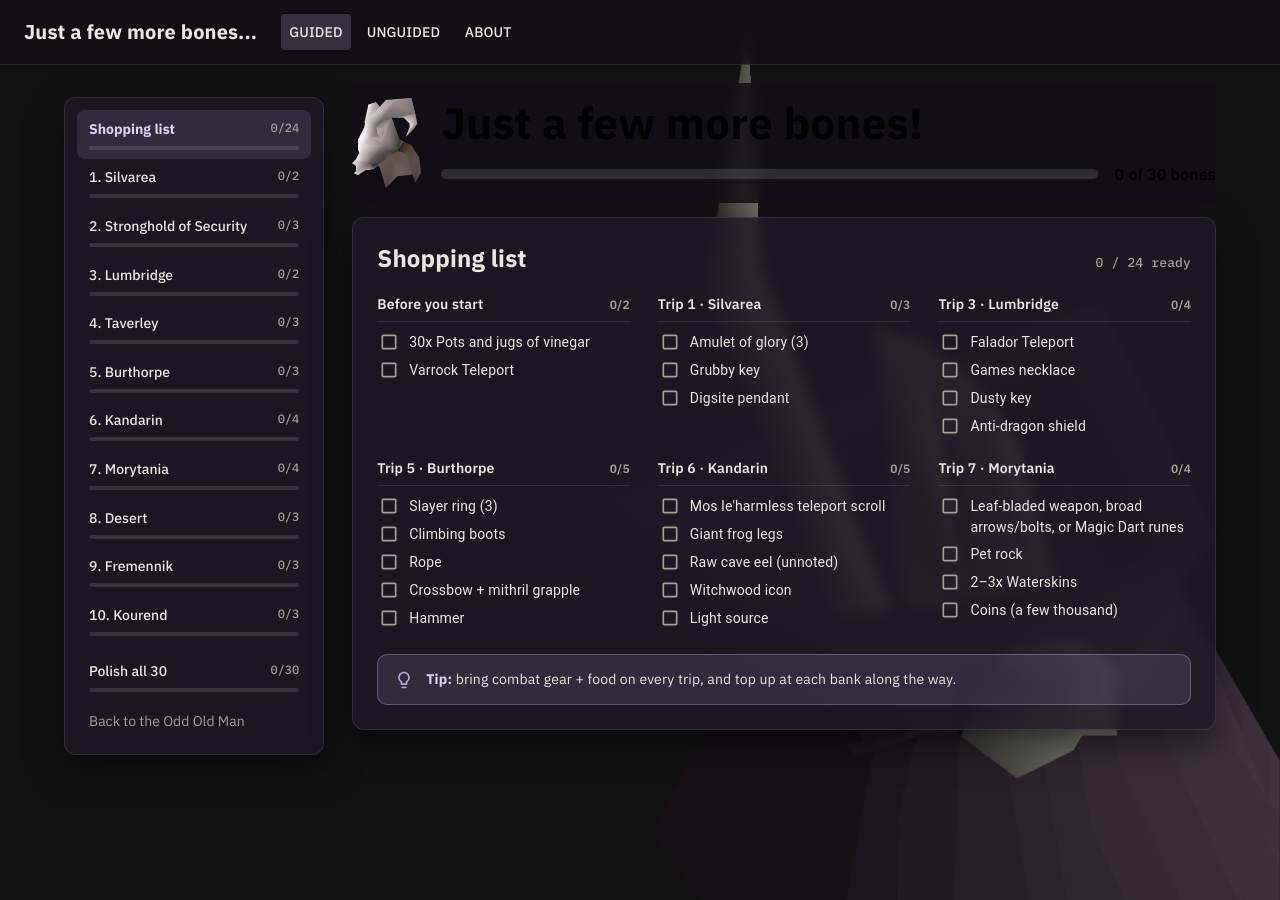
it: RoutePage › opens the shopping list as its own view, sharing ticks with the bank stops
Expected: the heading "Shopping list" is shown, left=377, top=242, right=527, bottom=274
Click the checkbox labelled "Grubby key". click: point(710, 370)
box: left=660, top=360, right=760, bottom=380
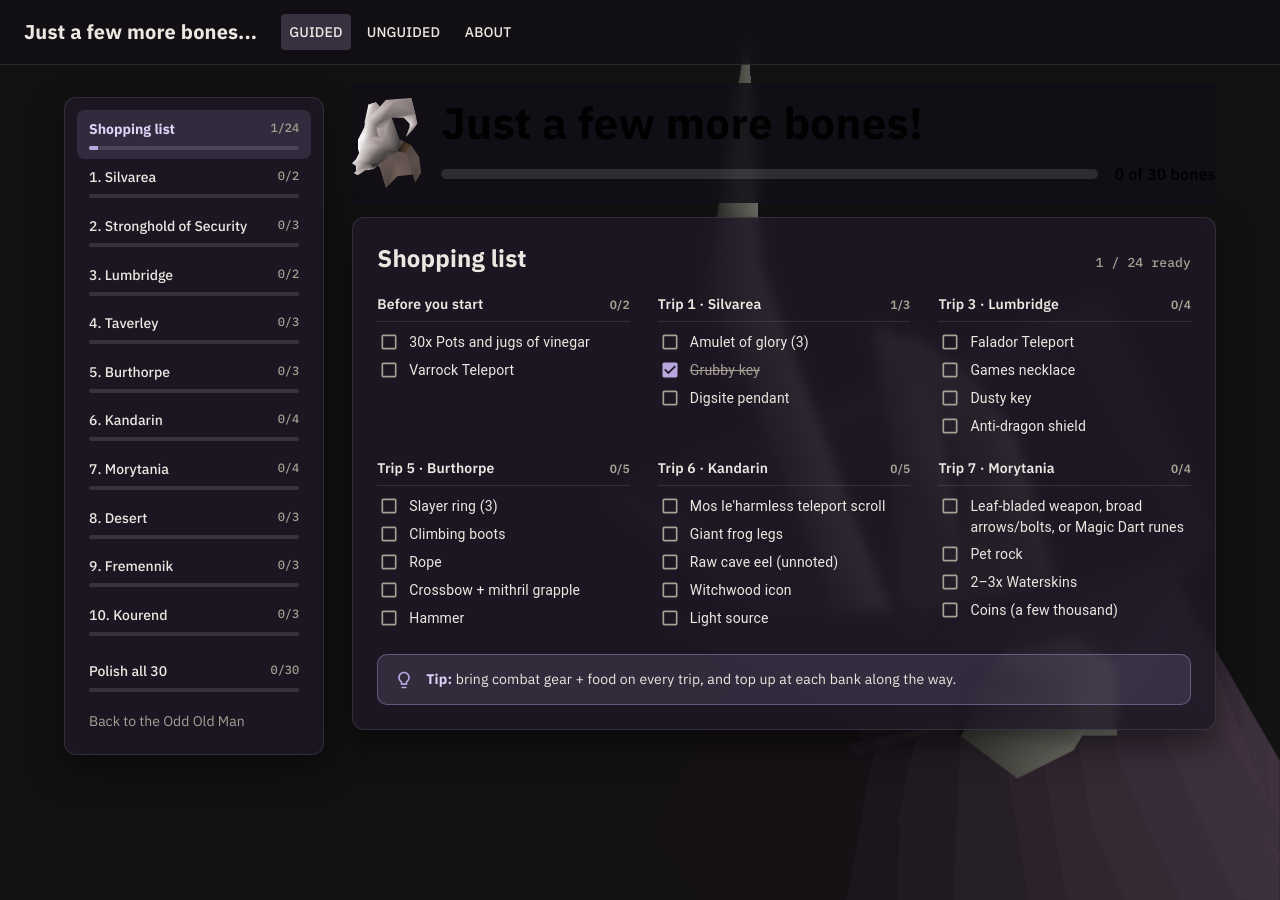
Click the button "1. Silvarea 0/2". click: point(194, 183)
box: left=77, top=159, right=311, bottom=207
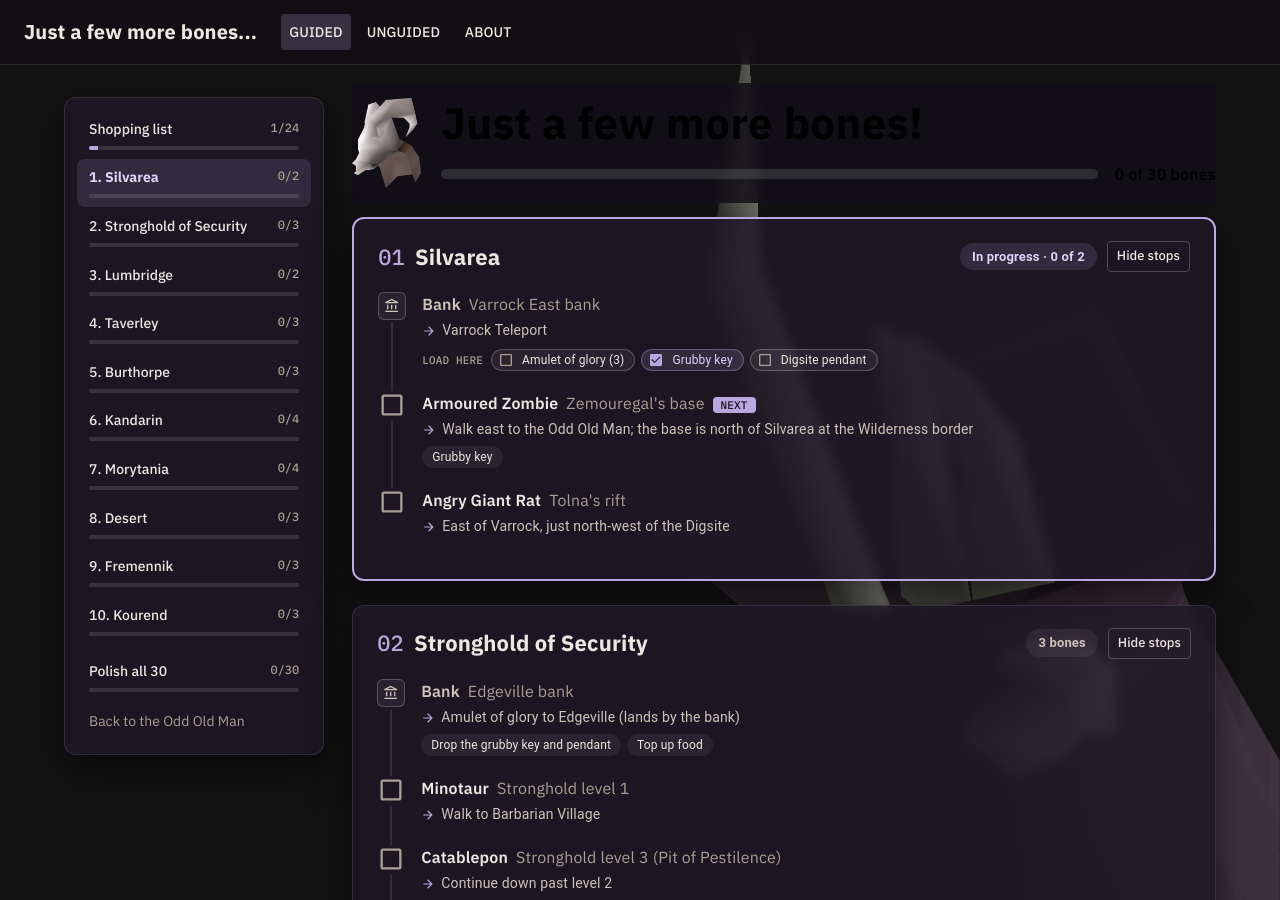
Expected: the 1st checkbox labelled "Grubby key" is checked, left=641, top=349, right=744, bottom=371
